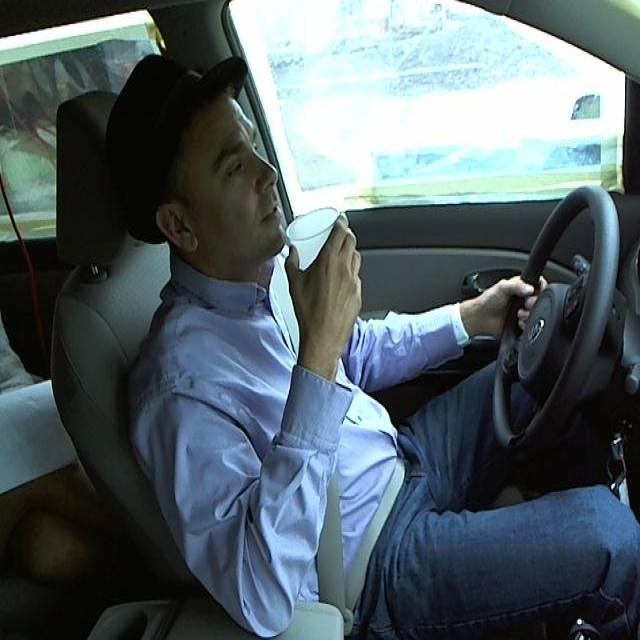Seatbelt: (283, 209, 346, 312)
